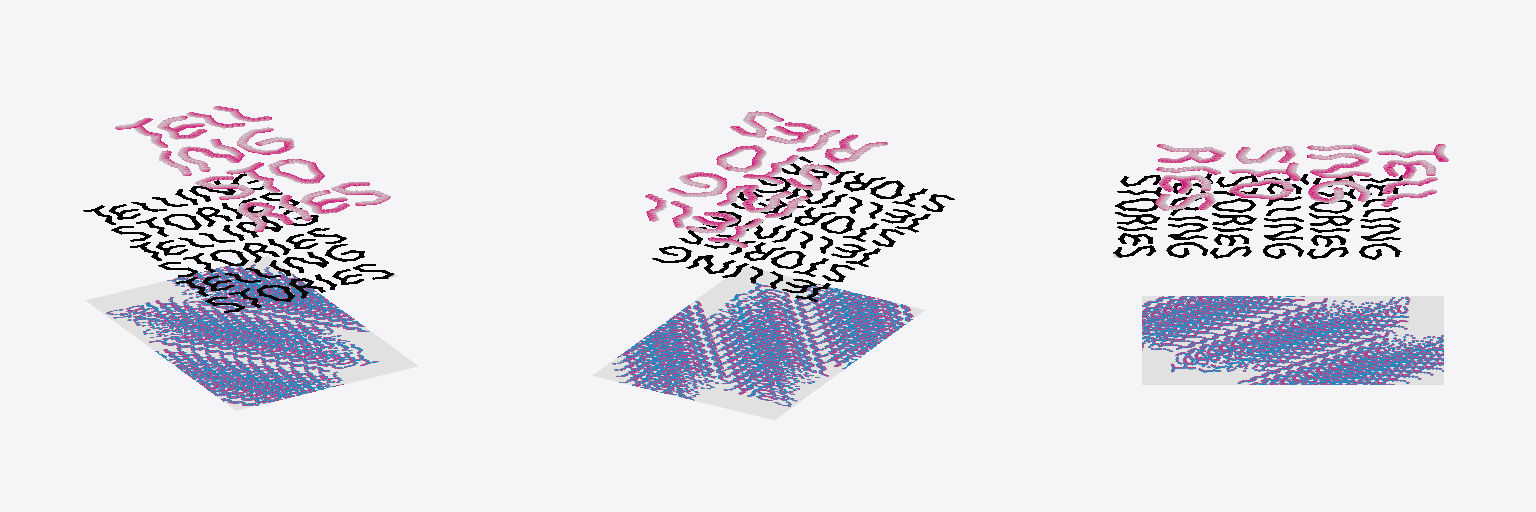
3 renders of one model, left to right at view 1: azimuth 30°, elevation 25°; view 2: azimuth 150°, elevation 25°; view 3: azimuth 270°, elevation 25°, orthographic.
Parts seen in each view (by area): view 1: Grid.001_Grid.003, Grid.000_Grid.001, Grid.002_Grid.004; view 2: Grid.001_Grid.003, Grid.000_Grid.001, Grid.002_Grid.004; view 3: Grid.001_Grid.003, Grid.000_Grid.001, Grid.002_Grid.004.
Part boxes in pixels (left/top/right/bottom): Grid.001_Grid.003: left=85, top=256, right=417, bottom=410; Grid.000_Grid.001: left=115, top=106, right=390, bottom=231; Grid.002_Grid.004: left=83, top=173, right=397, bottom=312; Grid.001_Grid.003: left=592, top=266, right=924, bottom=419; Grid.000_Grid.001: left=645, top=111, right=887, bottom=247; Grid.002_Grid.004: left=652, top=154, right=954, bottom=301; Grid.001_Grid.003: left=1142, top=296, right=1443, bottom=384; Grid.000_Grid.001: left=1155, top=144, right=1448, bottom=210; Grid.002_Grid.004: left=1113, top=173, right=1406, bottom=259.
Size of the model in its own units: 3.71 by 2.46 by 4.62.
3 materials, 3 textured.